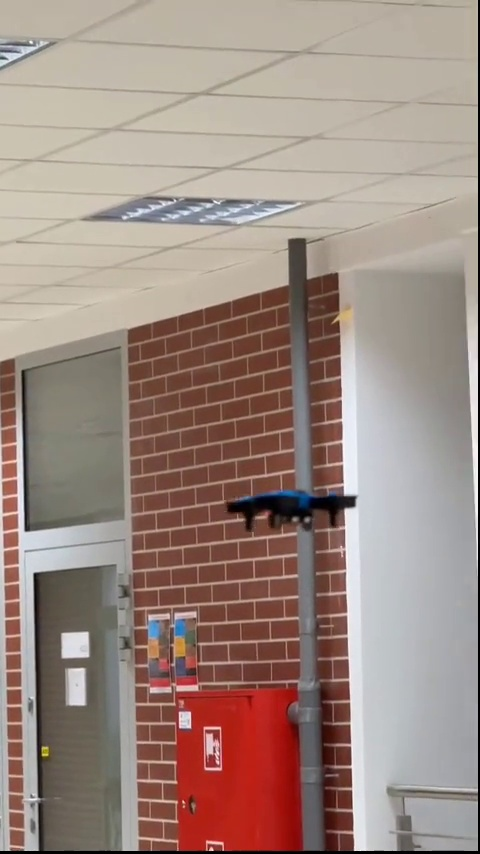drone: (223, 483, 360, 532)
